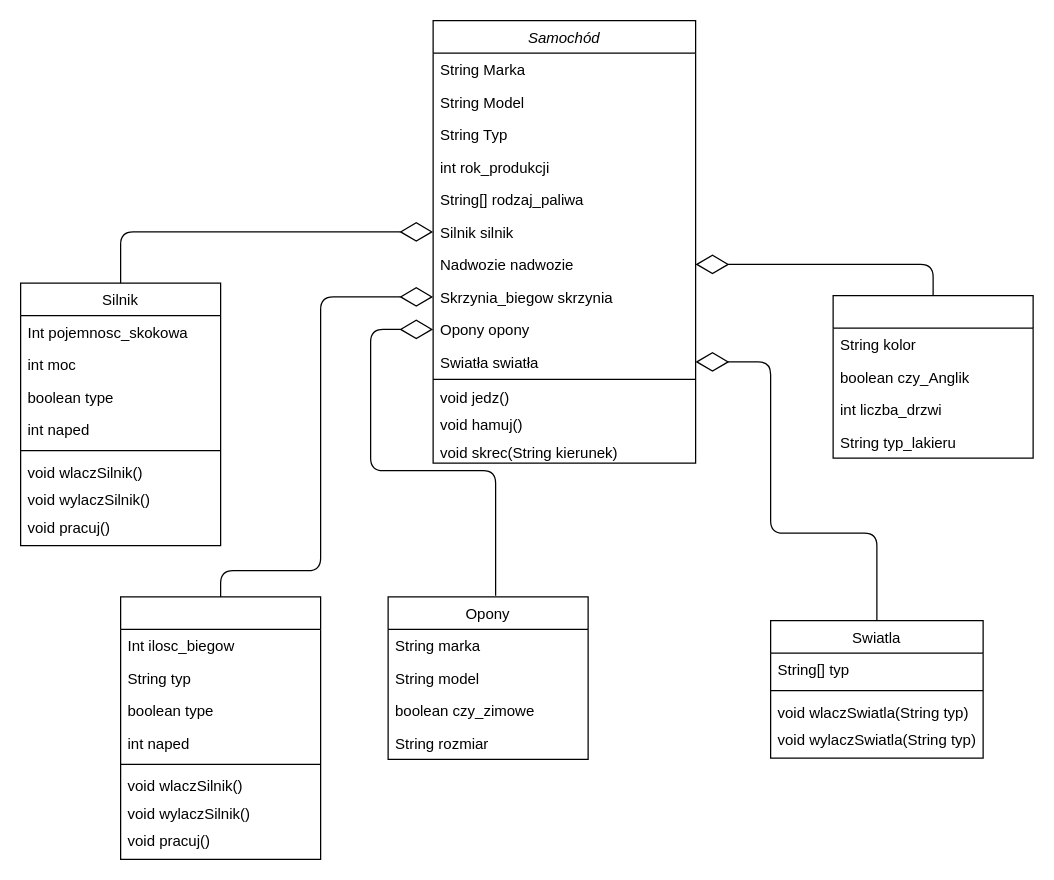
The diagram is 1054 pixels wide and 880 high, and some of its shapes have lost their labels. Here are the shapes that lost their labels. From the top down, the box of each, then its label:
(832, 294, 1033, 458): Nadwozie
(119, 596, 321, 859): Skrzynia_biegow
